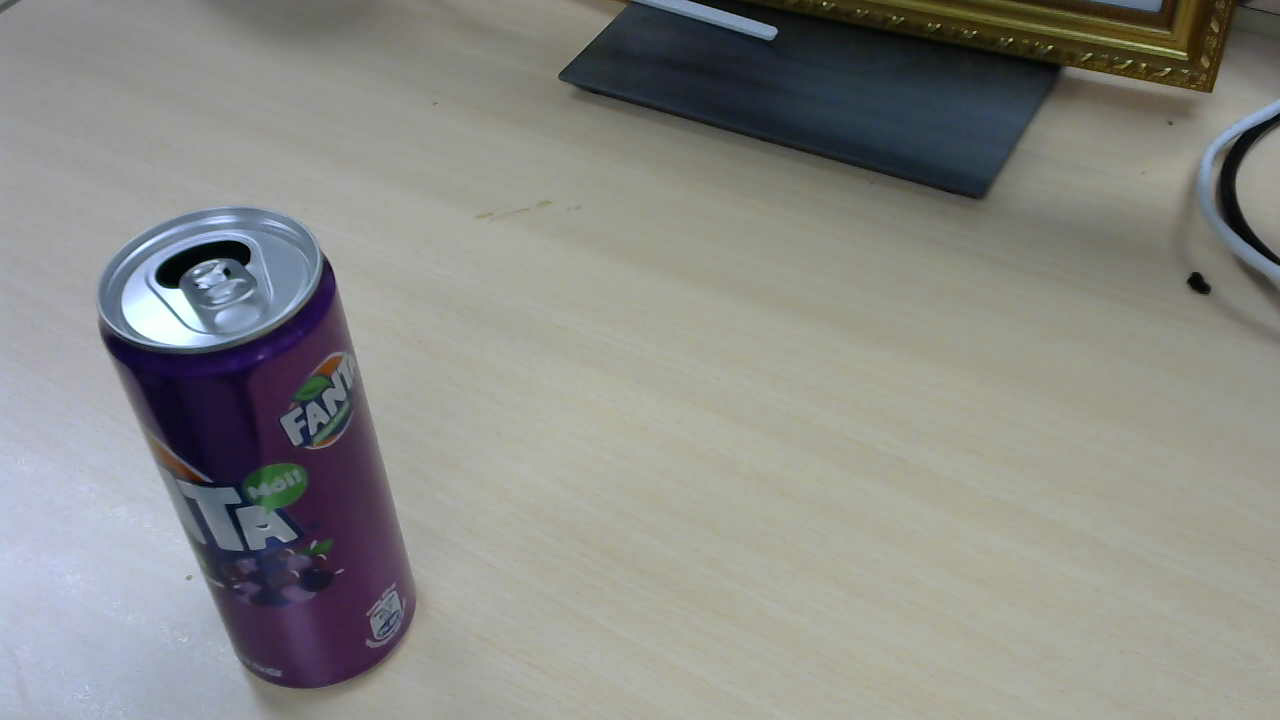Fanta: (100, 210, 422, 694)
